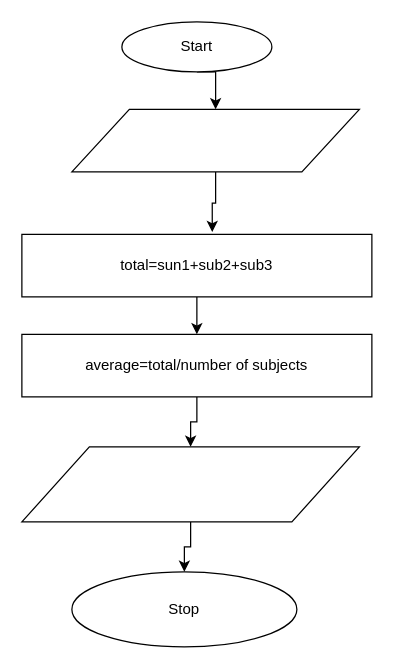
This 394x669 diagram has some shape labels left out. Each missing label, with the box of its shape:
Accept sub1,sub2 and sub3: (71, 108, 359, 172)
Diplay total,Average: (21, 446, 359, 522)
